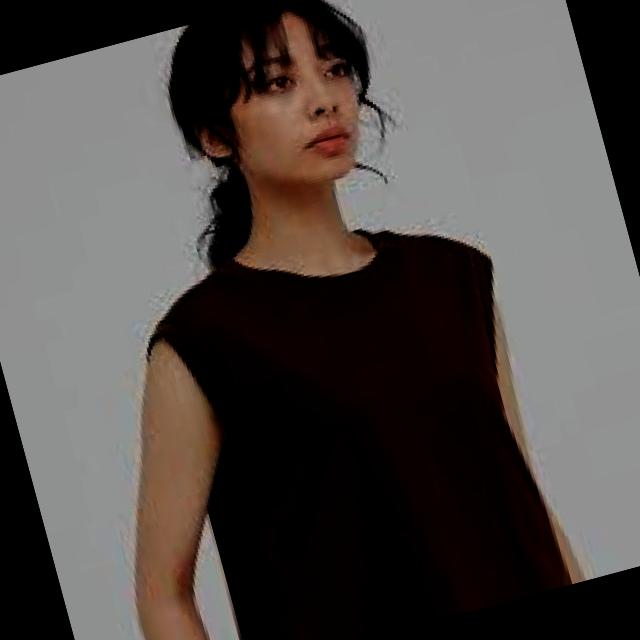no_vest: (126, 187, 580, 640)
